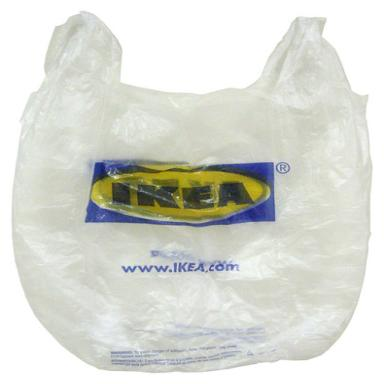plasticbag: (20, 20, 379, 365)
